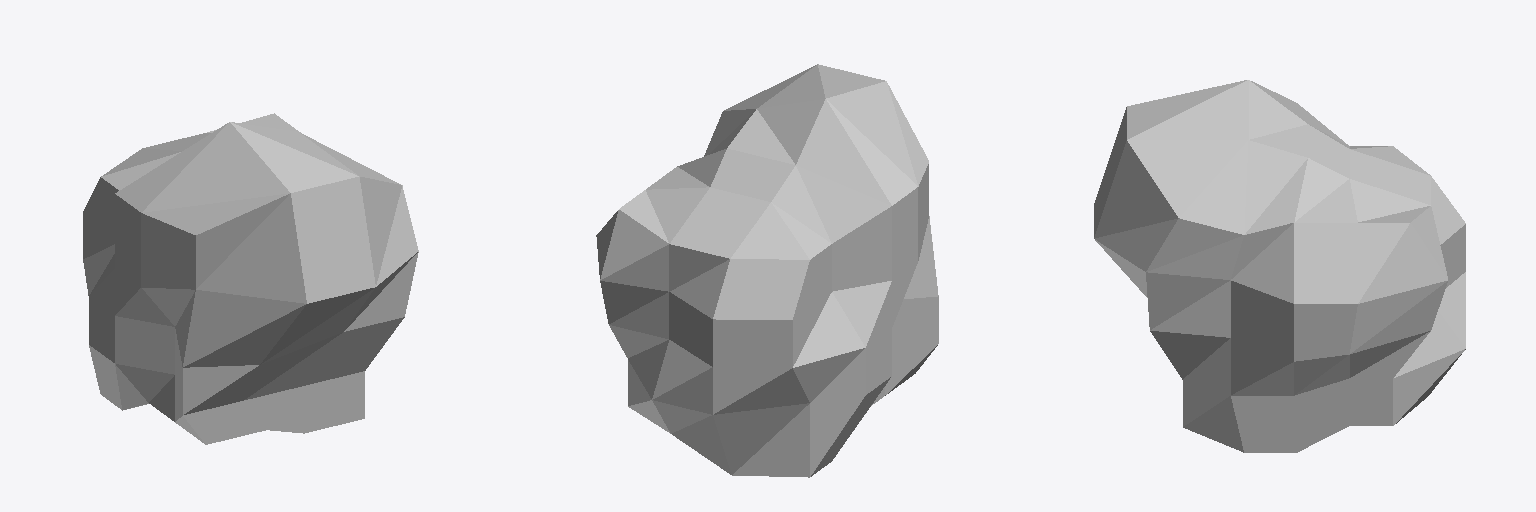
Rendered from monolith_06.obj.
3 renders of one model, left to right at view 1: azimuth 30°, elevation 25°; view 2: azimuth 150°, elevation 25°; view 3: azimuth 270°, elevation 25°, orthographic.
Parts seen in each view (by area): view 1: Cube_Cube; view 2: Cube_Cube; view 3: Cube_Cube.
Part boxes in pixels (left/top/right/bottom): Cube_Cube: left=83, top=113, right=418, bottom=444; Cube_Cube: left=596, top=64, right=938, bottom=477; Cube_Cube: left=1094, top=80, right=1465, bottom=452.
Size of the model in its own units: 291 by 327 by 353.